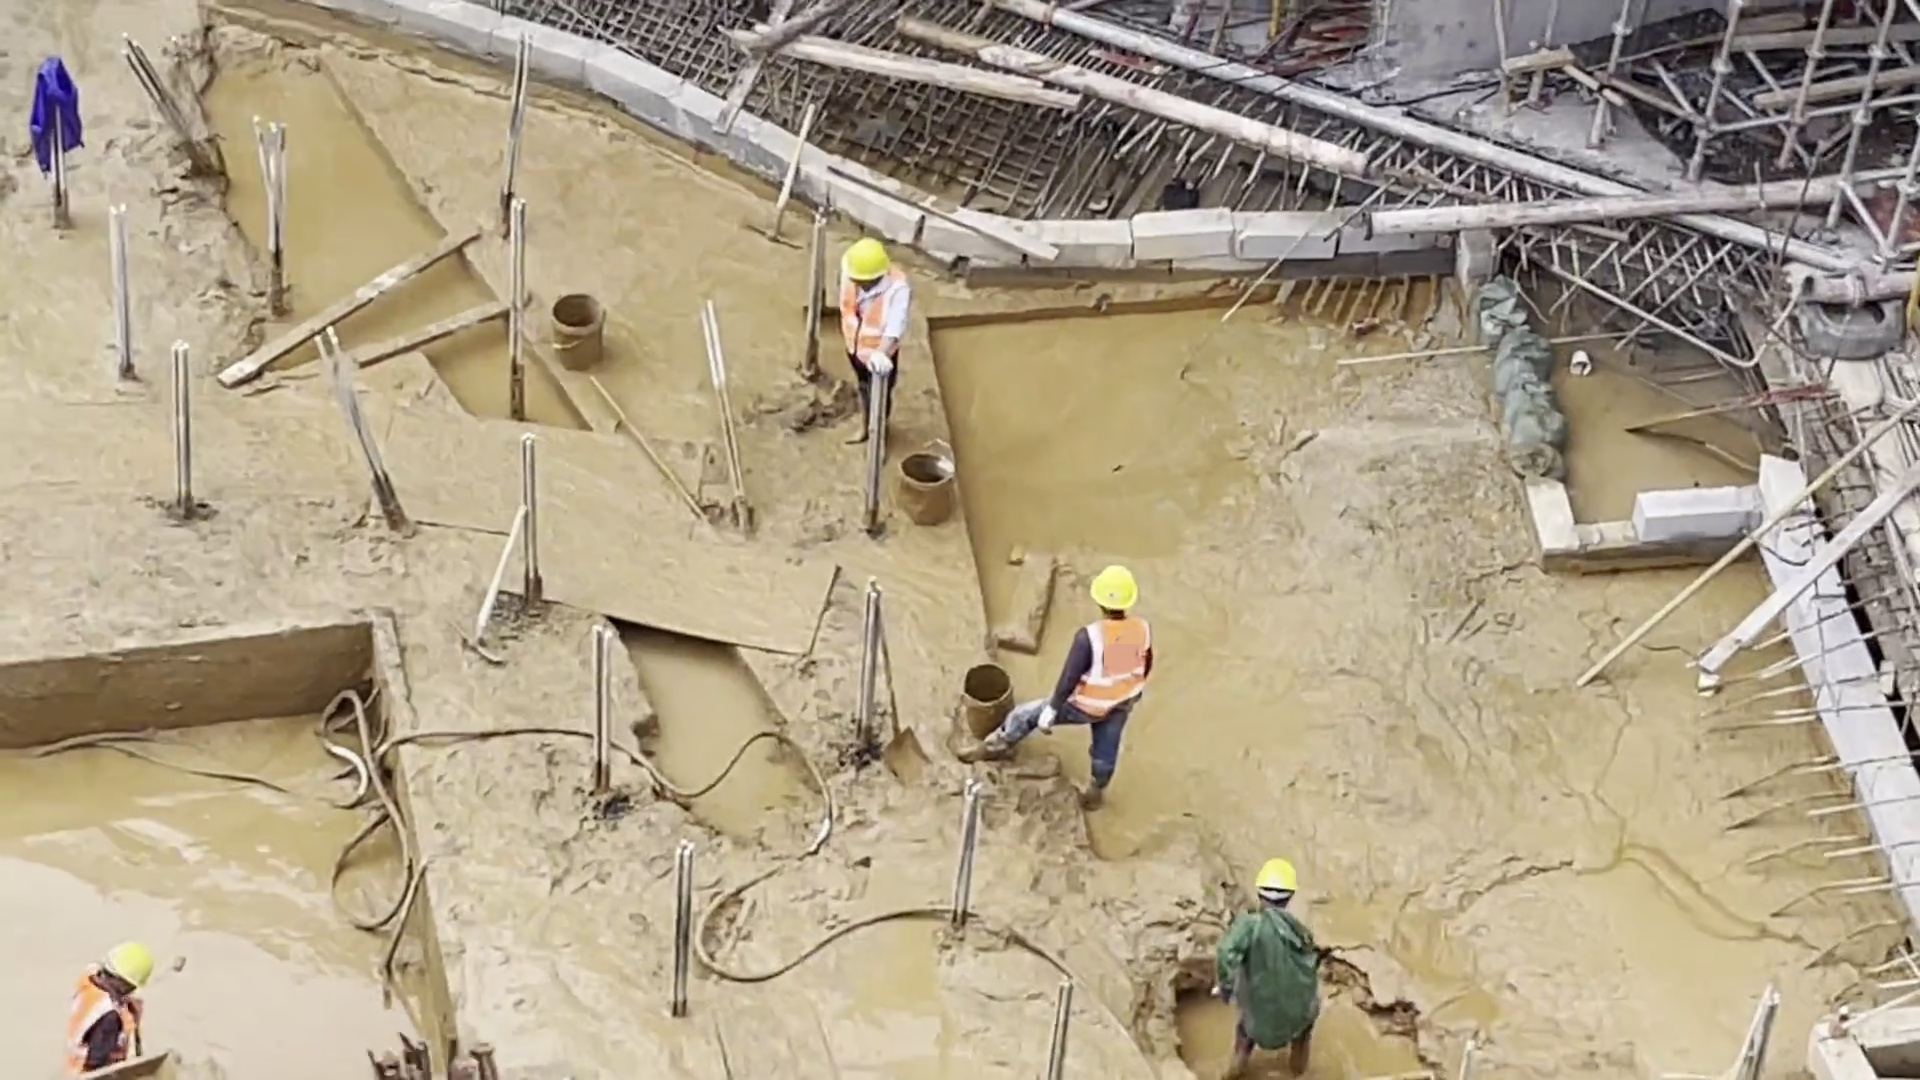helmet: (100, 935, 156, 990), (837, 232, 891, 285), (1091, 561, 1133, 611), (1256, 854, 1307, 894)
person: (953, 561, 1155, 812), (1215, 850, 1323, 1080), (832, 235, 913, 450), (59, 931, 163, 1080)
vest: (1074, 613, 1147, 724), (60, 972, 132, 1067), (844, 278, 897, 363)
